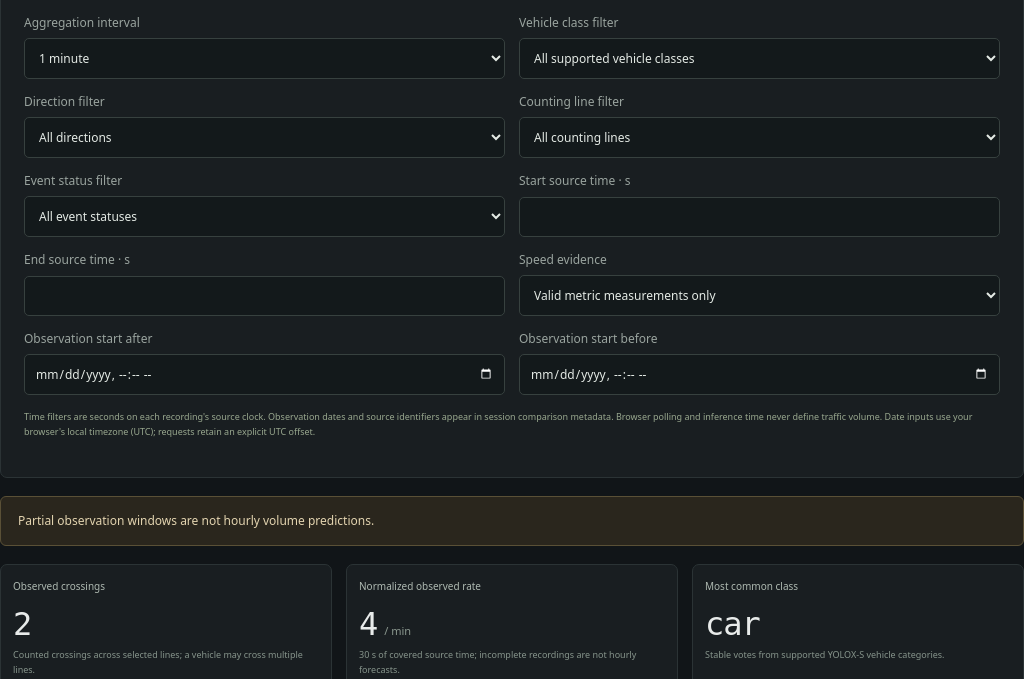
Test: Traffic Intelligence workspace › keeps approximate speed evidence visibly separate
(page scrolled)
Expected: the text "4" is shown, [359,605,377,643]
Select "Approximate measurements separately" in the dropdown labelled "Speed evidence" at (760, 295), box [519,275,1000,316]
(page scrolled)
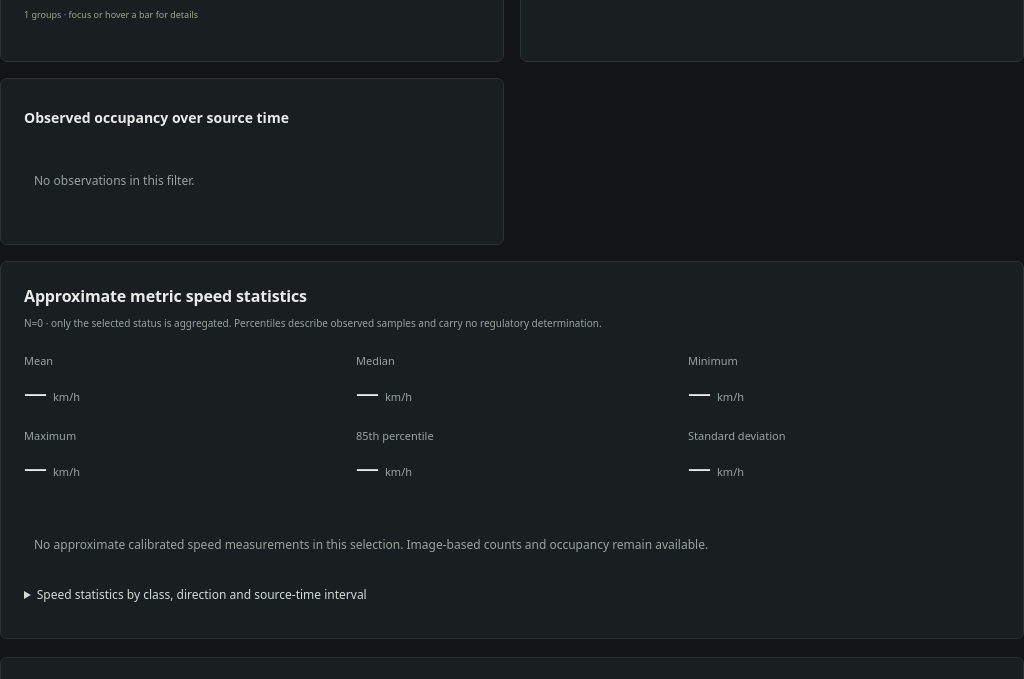
Expected: the heading "Approximate metric speed statistics" is shown, [24,285,307,307]
